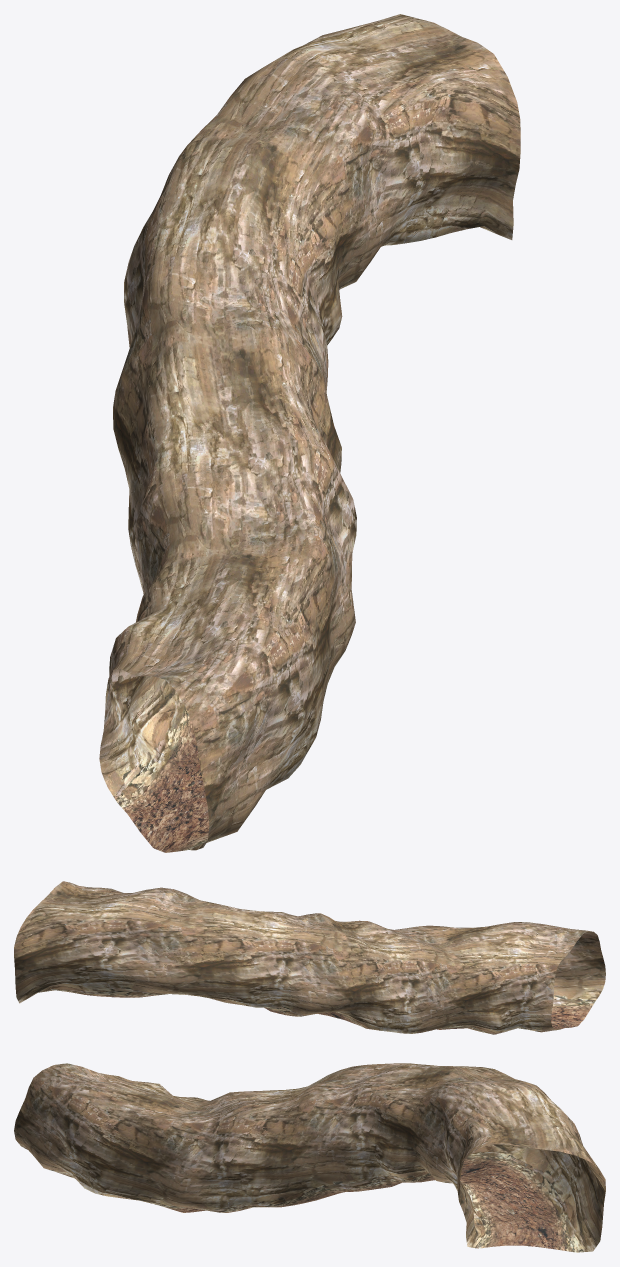
File: thm_tato_cave_s02_r18_mesh_r18.fbx
3 renders of one model, top to bottom at view 1: azimuth 30°, elevation 25°; view 2: azimuth 150°, elevation 25°; view 3: azimuth 270°, elevation 25°, orthographic. The views are drawn at different scales.
Parts seen in each view (by area): view 1: mesh_node; view 2: mesh_node; view 3: mesh_node.
Part boxes in pixels (x1,y1,x2,y2): mesh_node: [99, 14, 520, 852]; mesh_node: [14, 881, 605, 1034]; mesh_node: [14, 1063, 605, 1252].
Size of the model in its own units: 38 by 20.71 by 47.92.
